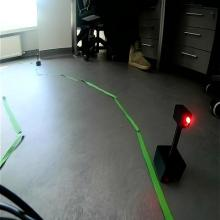red: (175, 103, 192, 129)
